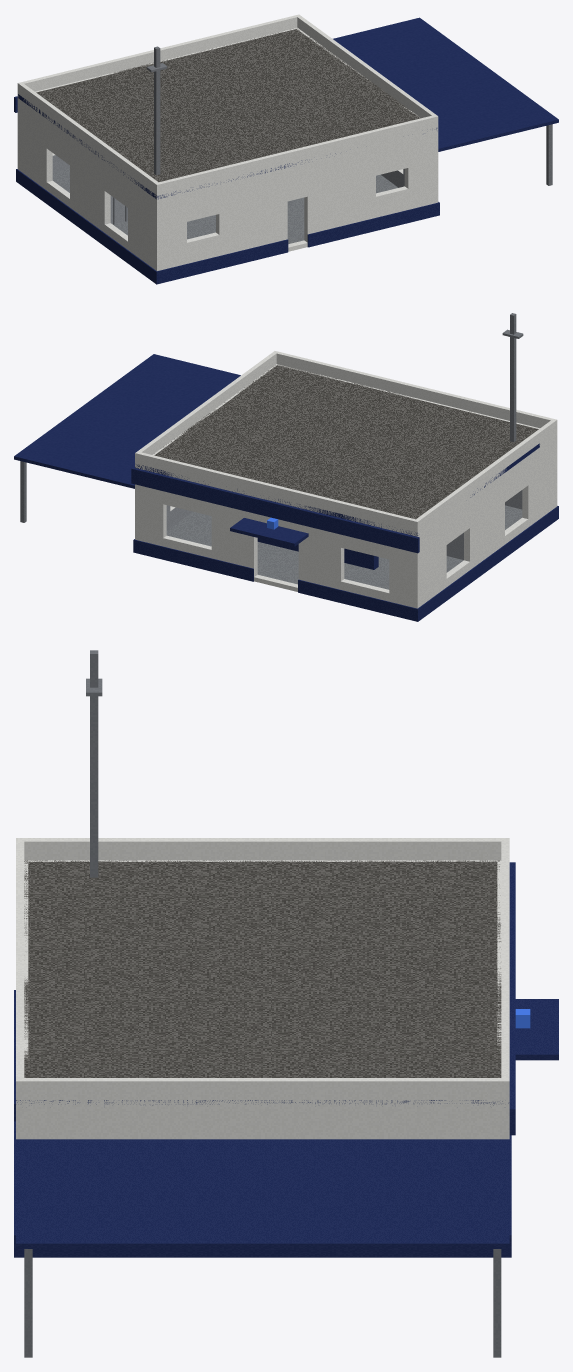
The model's file is police_station.glb.
The picture shows the model from 3 angles, top to bottom: view 1: azimuth 30°, elevation 25°; view 2: azimuth 150°, elevation 25°; view 3: azimuth 270°, elevation 25°; orthographic projection. The views are drawn at different scales.
Parts seen in each view (by area): view 1: police_station; view 2: police_station; view 3: police_station.
Part boxes in pixels (x1,y1,x2,y2): police_station: (14, 14, 558, 284); police_station: (14, 313, 558, 621); police_station: (14, 650, 558, 1357).
Bounding box in the file's own units: 20.1 × 10.2 × 13.25.
7 materials, 7 textured.
